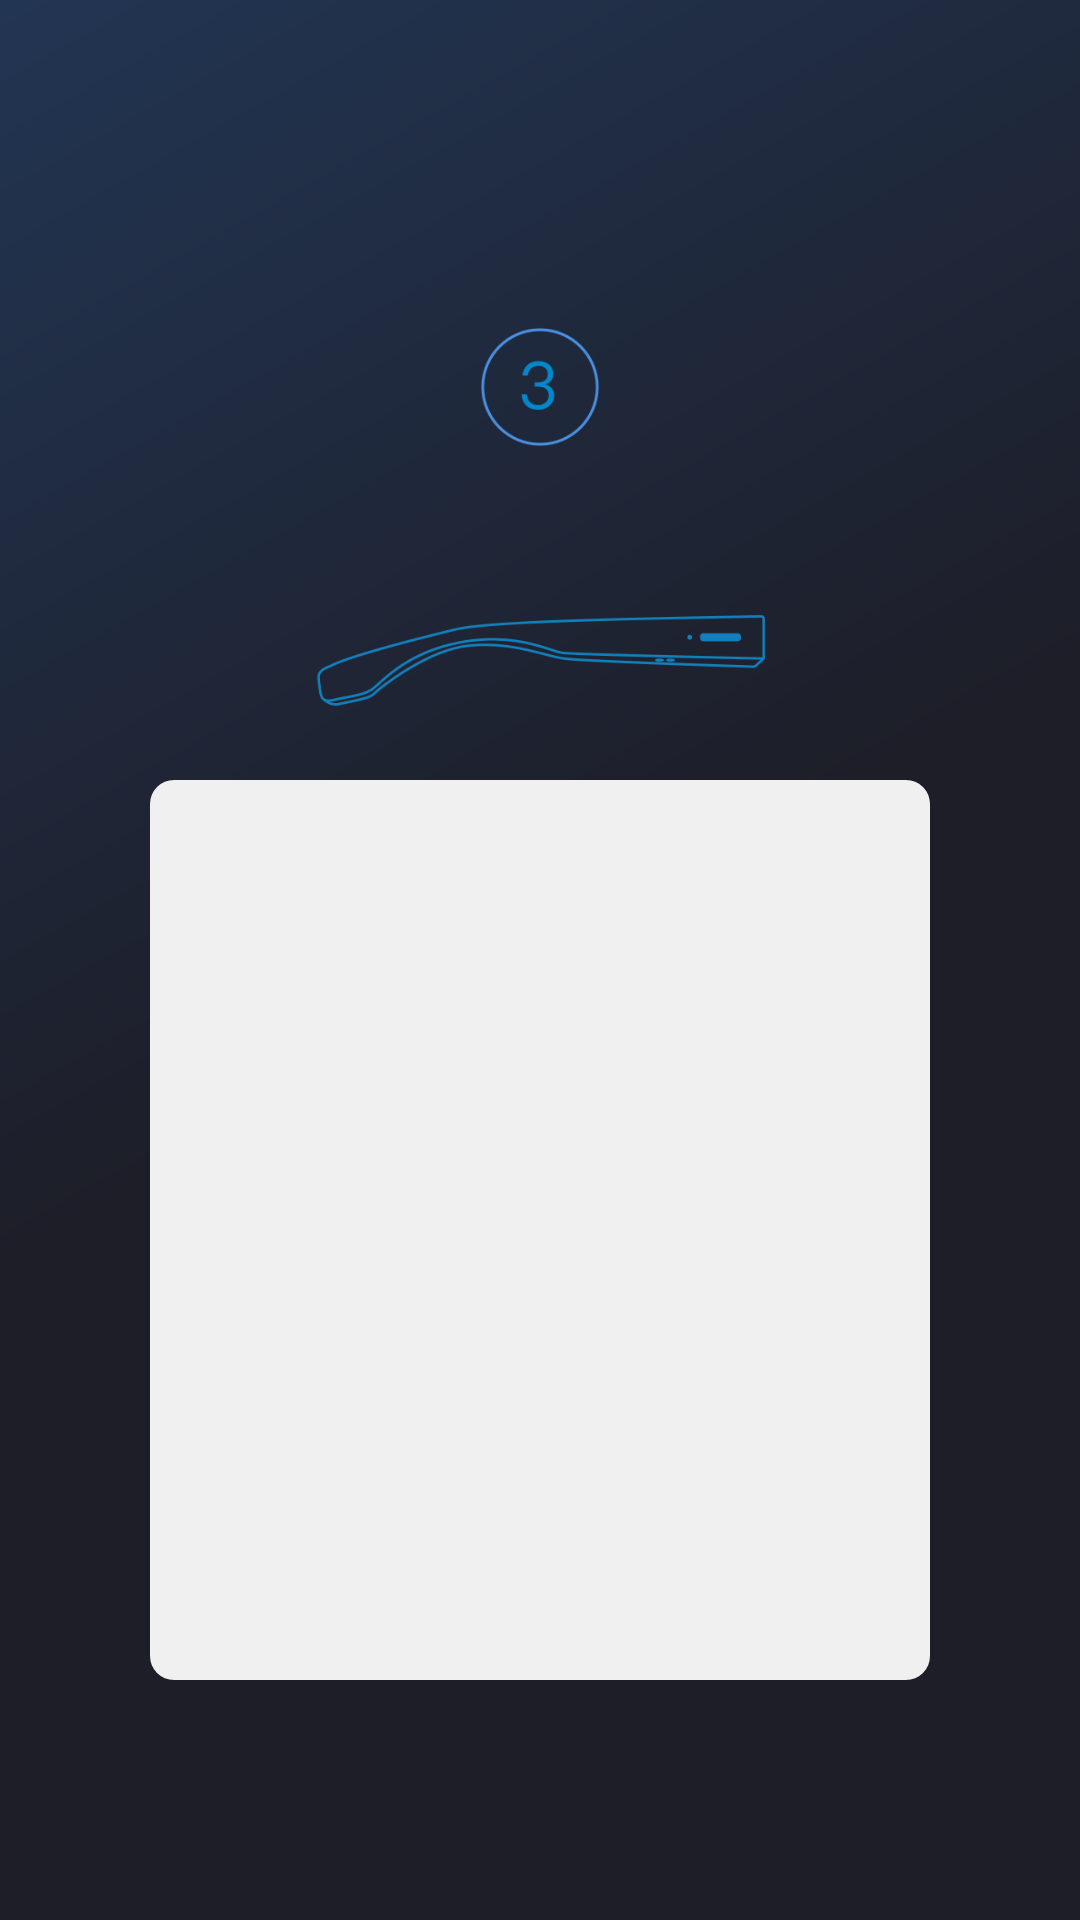

Icon click points for this 1080*1920 phone screenshot, format [x,y]:
guide num: [540,387]
